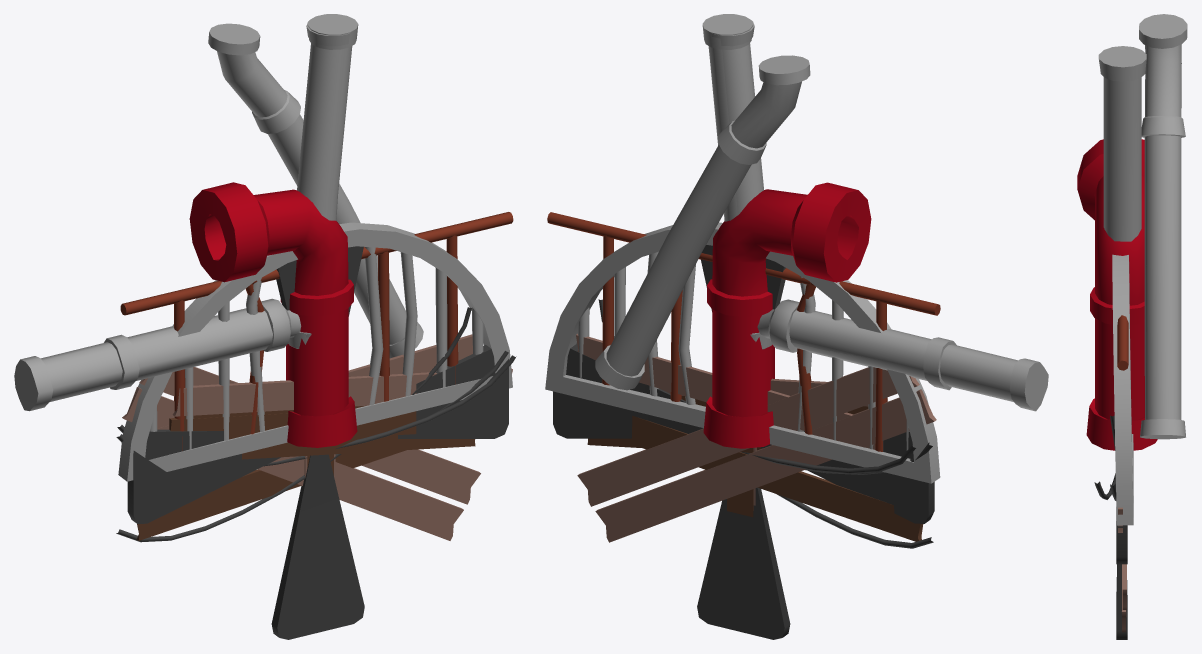
File: yeet.glb
The picture shows the model from 3 angles, left to right: view 1: azimuth 30°, elevation 25°; view 2: azimuth 150°, elevation 25°; view 3: azimuth 270°, elevation 25°; orthographic projection. The views are drawn at different scales.
Visible parts, largest first — view 1: propeller, pipe2, grid, wood3, pipe3, wood4, pipe4, grid2, pipe5, cable2, pipe; view 2: pipe2, wood3, grid, pipe3, propeller, wood4, grid2, pipe4, pipe5, pipe, cable2; view 3: pipe3, pipe2, pipe, grid, propeller, grid2, wood3, cable2.
Part boxes in pixels (left/top/right/bottom): propeller: left=127, top=246, right=508, bottom=639; pipe2: left=189, top=182, right=357, bottom=447; grid: left=118, top=222, right=512, bottom=481; wood3: left=122, top=367, right=512, bottom=540; pipe3: left=208, top=21, right=423, bottom=358; wood4: left=136, top=334, right=475, bottom=540; pipe4: left=14, top=305, right=300, bottom=411; grid2: left=120, top=212, right=513, bottom=450; pipe5: left=104, top=298, right=300, bottom=389; cable2: left=116, top=307, right=516, bottom=542; pipe: left=305, top=14, right=358, bottom=337; pipe2: left=703, top=182, right=871, bottom=448; wood3: left=577, top=367, right=936, bottom=542; grid: left=545, top=222, right=940, bottom=483; pipe3: left=595, top=21, right=810, bottom=390; propeller: left=553, top=245, right=934, bottom=639; wood4: left=576, top=333, right=923, bottom=541; grid2: left=547, top=212, right=940, bottom=451; pipe4: left=757, top=305, right=1048, bottom=411; pipe5: left=757, top=299, right=956, bottom=390; pipe: left=702, top=14, right=759, bottom=340; cable2: left=576, top=299, right=933, bottom=548; pipe3: left=1098, top=14, right=1187, bottom=439; pipe2: left=1077, top=139, right=1157, bottom=450; pipe: left=1099, top=46, right=1146, bottom=241; grid: left=1112, top=254, right=1133, bottom=525; propeller: left=1116, top=507, right=1127, bottom=639; grid2: left=1117, top=315, right=1128, bottom=370; wood3: left=1118, top=507, right=1126, bottom=632; cable2: left=1094, top=415, right=1115, bottom=499.
Size of the model in its own units: 15.11 by 17.88 by 3.1.
